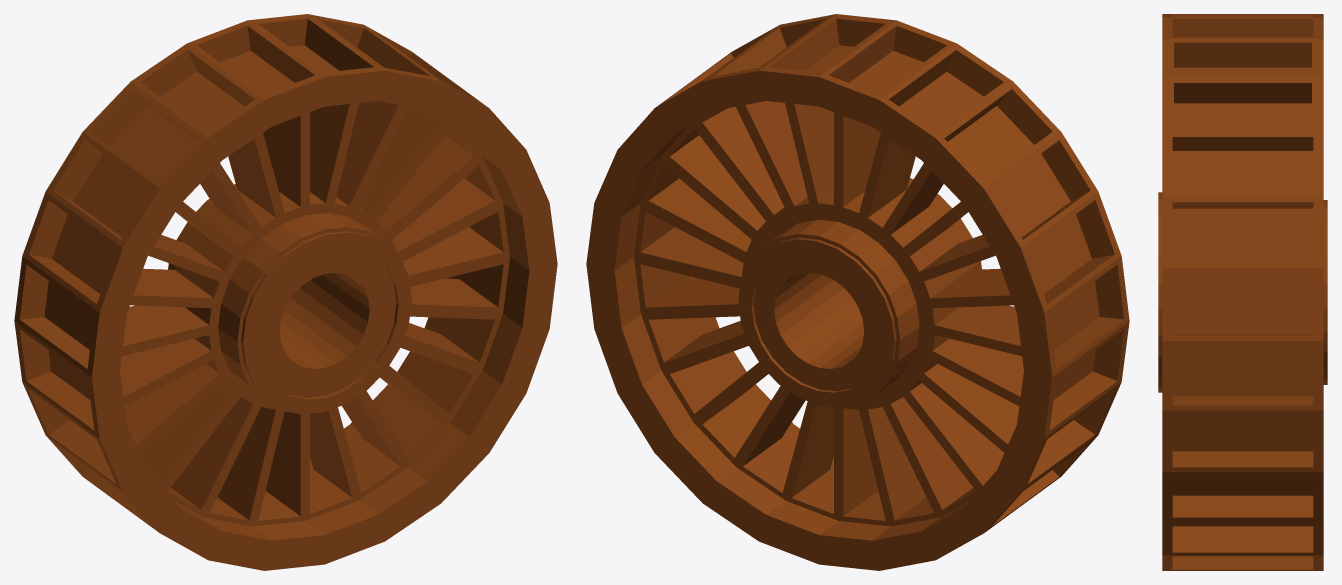
File: Building_Prop_Water_Wheel_01.FBX
3 renders of one model, left to right at view 1: azimuth 30°, elevation 25°; view 2: azimuth 150°, elevation 25°; view 3: azimuth 270°, elevation 25°, orthographic. The views are drawn at different scales.
Visible parts, largest first — view 1: Building_Prop_Water_Wheel_01; view 2: Building_Prop_Water_Wheel_01; view 3: Building_Prop_Water_Wheel_01.
Part boxes in pixels (x1=…): Building_Prop_Water_Wheel_01: x1=14, y1=14, x2=557, y2=570; Building_Prop_Water_Wheel_01: x1=586, y1=14, x2=1129, y2=570; Building_Prop_Water_Wheel_01: x1=1158, y1=14, x2=1327, y2=570.
Bounding box in the file's own units: 4663 × 4663 × 1413.
